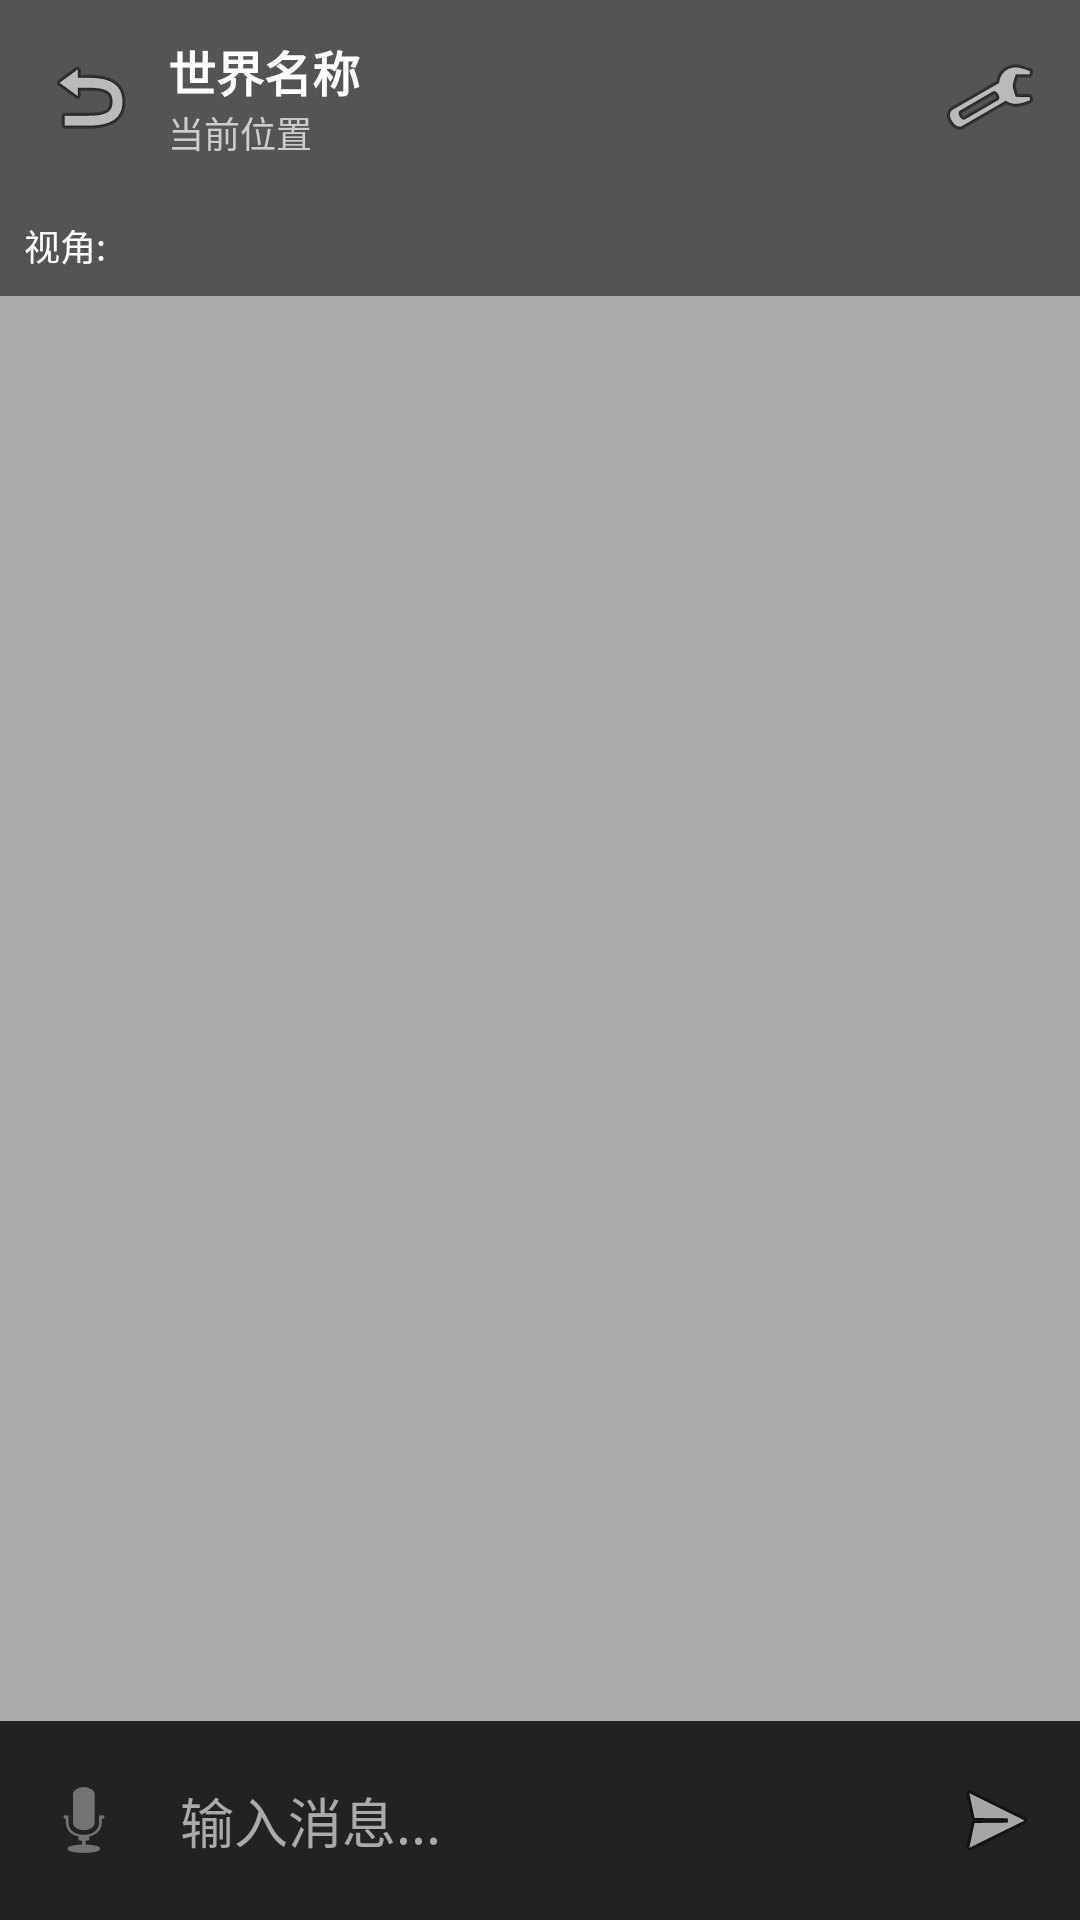

Named icons in this screenshot (1080w x 1920h) and their bounding boxes, (x1, y1, x2, y2):
发送: (969, 1793, 1024, 1848)
聆听: (63, 1787, 105, 1853)
设置: (947, 65, 1033, 129)
返回: (57, 67, 125, 128)
